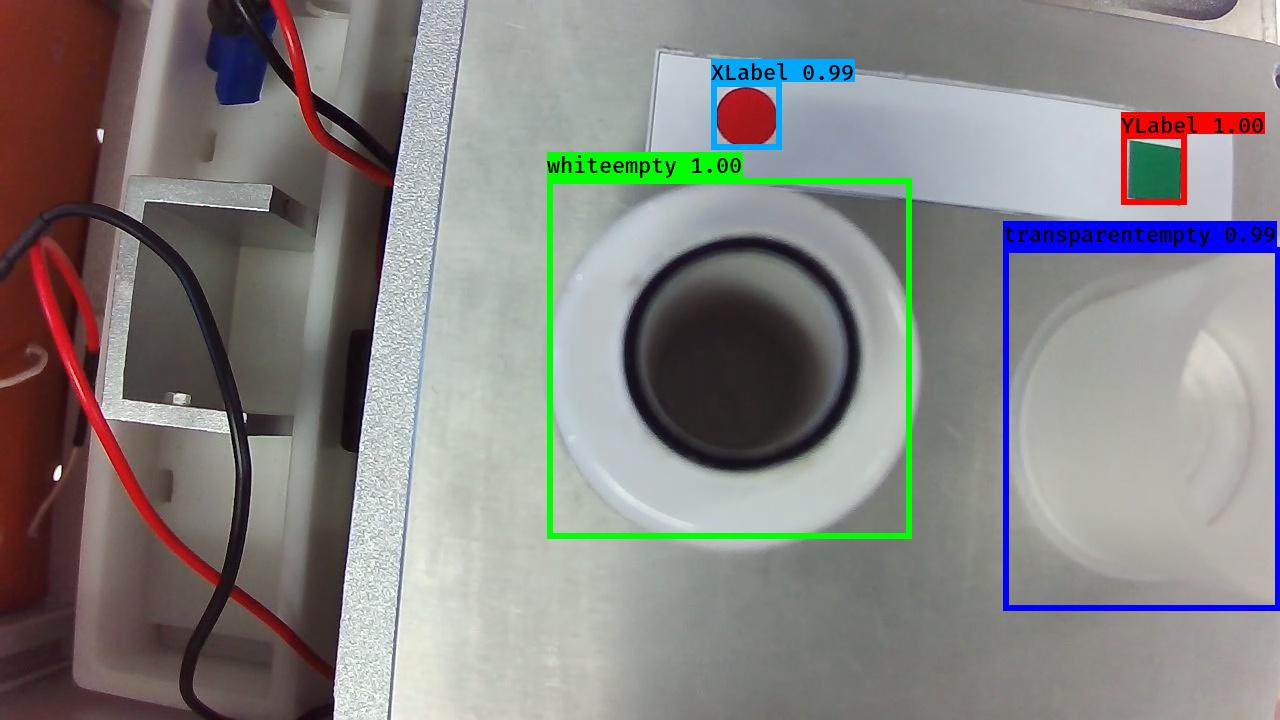XLabel: (712, 81, 781, 150)
YLabel: (1121, 136, 1192, 209)
transparentempty: (1010, 232, 1280, 590)
whiteempty: (534, 177, 926, 557)
